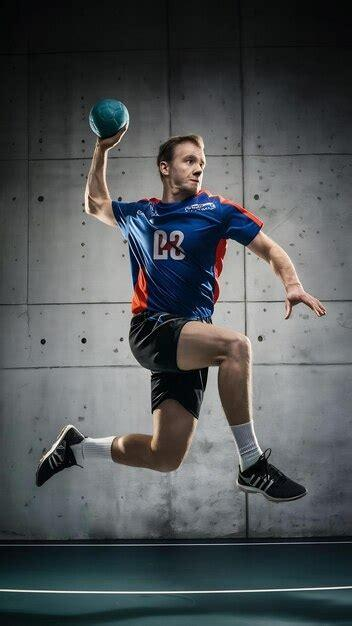ballon_handball: (87, 97, 132, 142)
